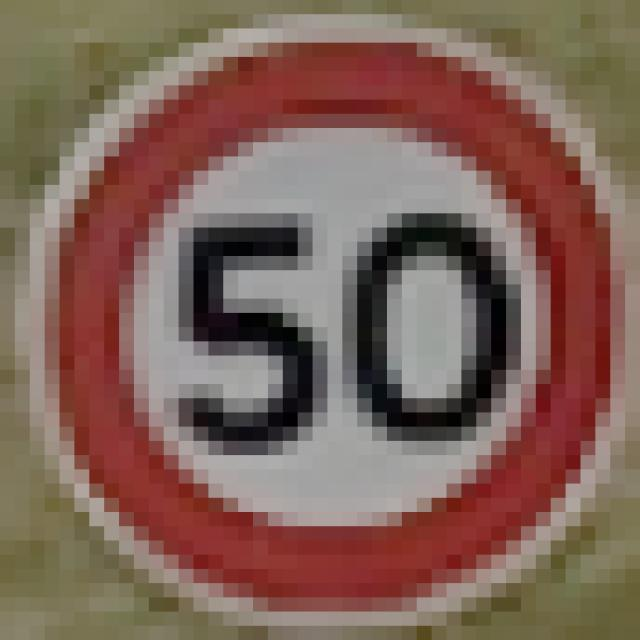speed_50: (0, 0, 625, 626)
